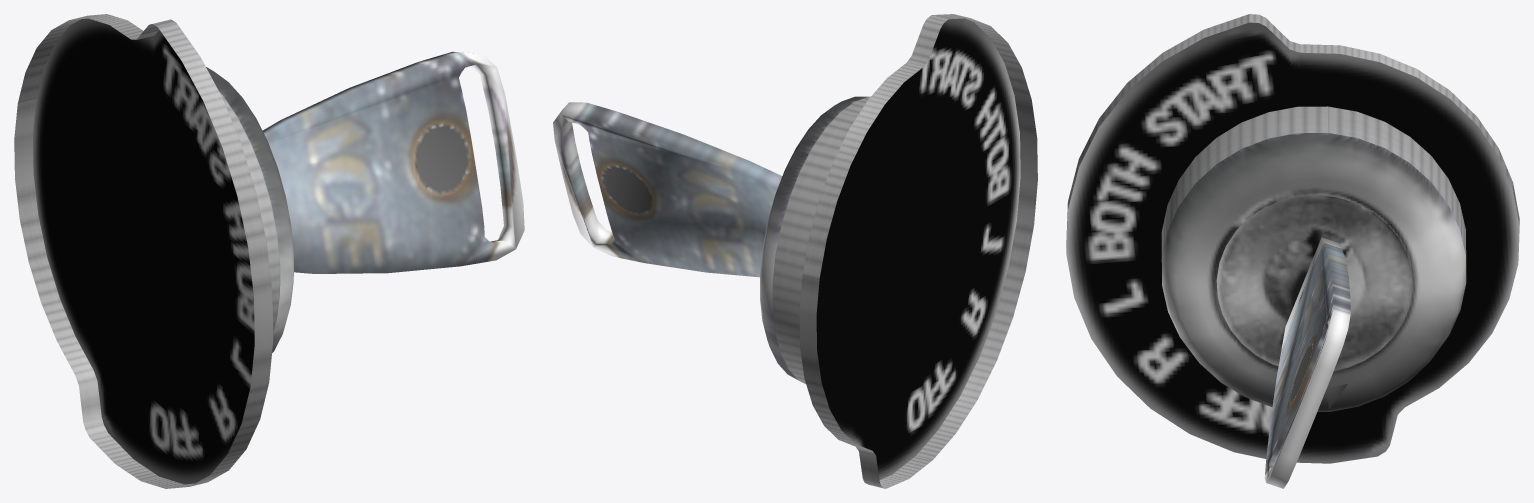
File: magneto-switch.gltf
3 views of the same model, side by side, from view 1: azimuth 30°, elevation 25°; view 2: azimuth 150°, elevation 25°; view 3: azimuth 270°, elevation 25° (orthographic). The views are drawn at different scales.
Visible parts, largest first — view 1: magsw, key; view 2: magsw, key; view 3: magsw, start, key.
Boxes of the visible parts, bbox=[...] form: magsw: bbox=[14, 14, 293, 488]; key: bbox=[262, 51, 524, 273]; magsw: bbox=[760, 14, 1037, 488]; key: bbox=[553, 102, 782, 277]; magsw: bbox=[1066, 14, 1519, 463]; start: bbox=[1216, 195, 1412, 370]; key: bbox=[1264, 237, 1350, 488].
Size of what is drawn, in the model's own units: 0.0412 by 0.048 by 0.0447.
1 material, 1 textured.
